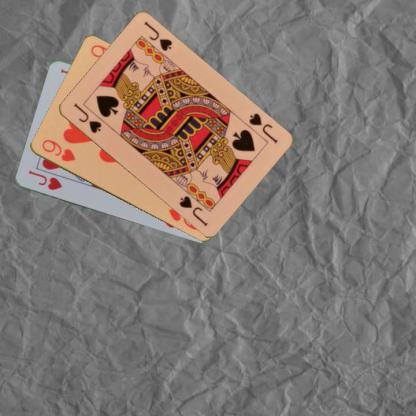9h: (39, 136, 76, 163)
Jh: (25, 167, 63, 192)
Js: (70, 100, 103, 135), (246, 110, 279, 145)
